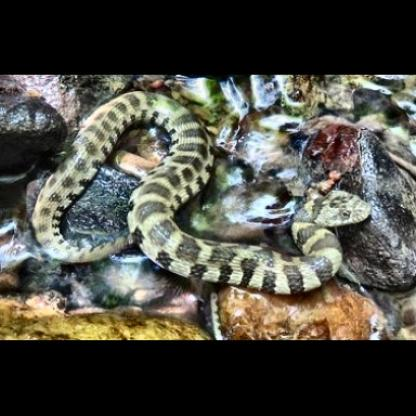Snake: (8, 82, 410, 334)
